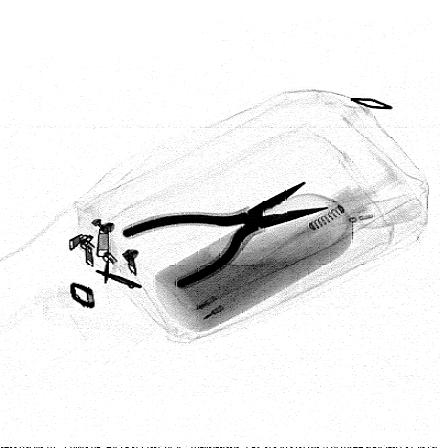Pliers: (120, 181, 329, 291)
